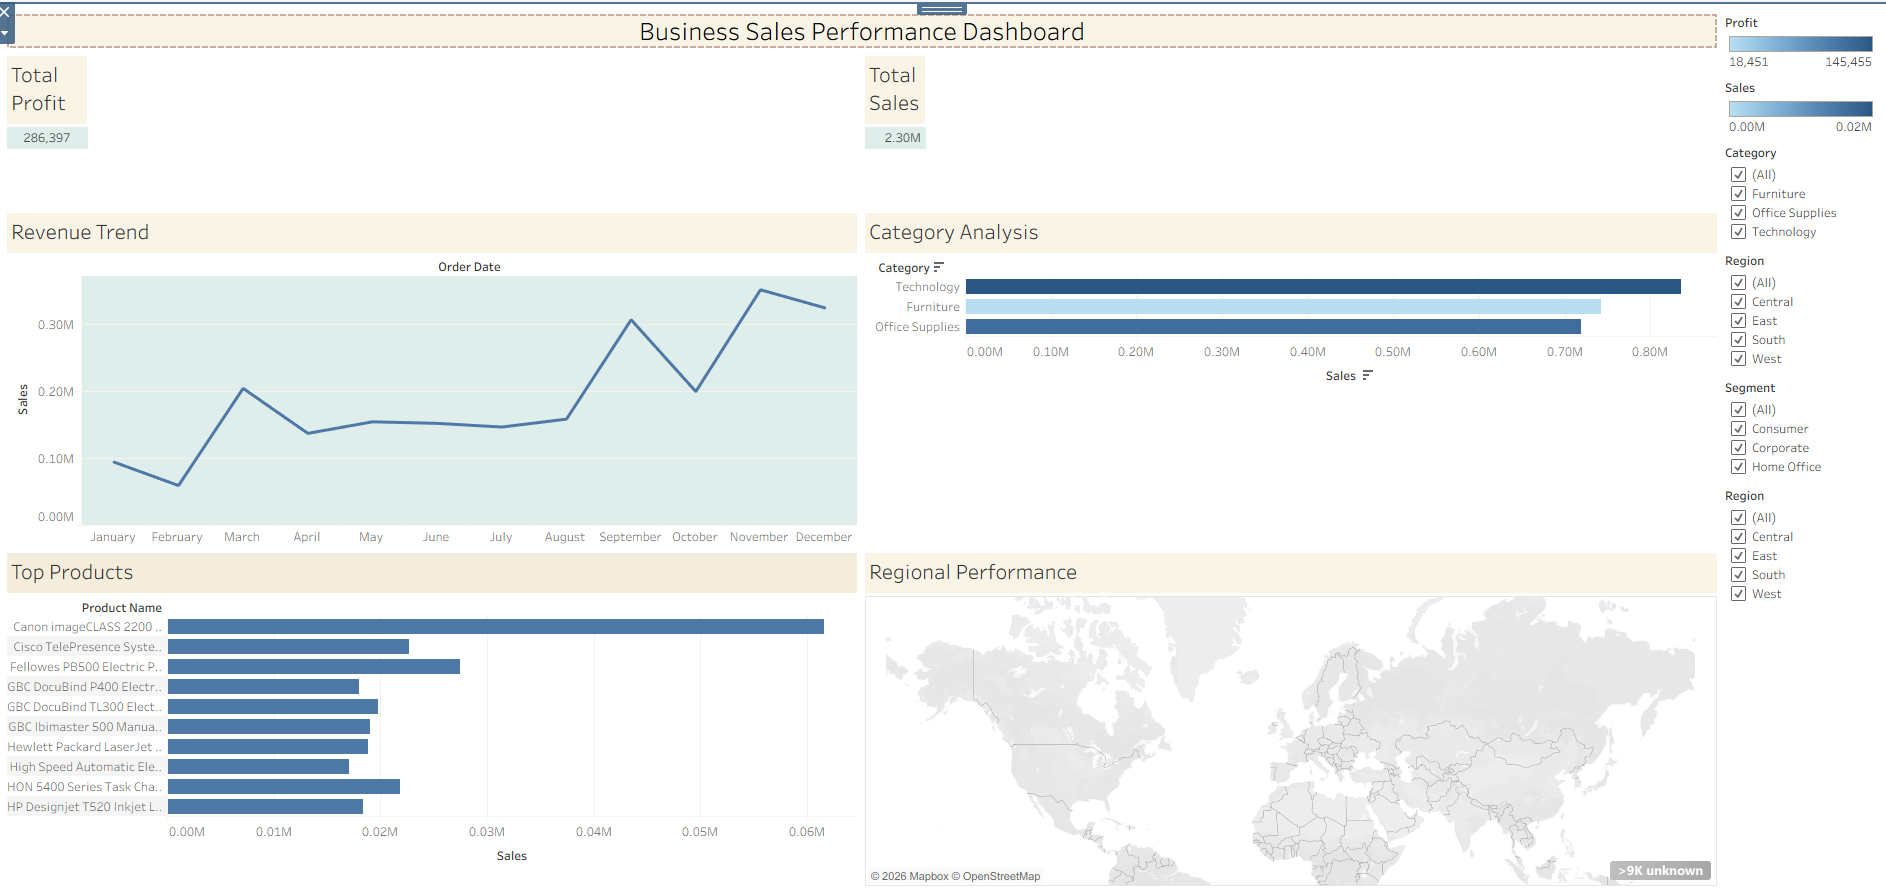

The dashboard page shown, as its layout file describes it:
{"tool":"tableau","page":{"name":"Business Sales Performance Dashboard","canvas":[1000,1000],"units":"permille","ordinal":0},"visuals":[{"type":"title","box":[4.2,8.9,907.1,46.9]},{"type":"legend","title":"Category Analysis","param":"[federated.0oephsb0z7pvvm1f0urw01b0hd0s].[sum:Profit:qk]","box":[911.3,8.9,84.5,72.5]},{"type":"worksheet","title":"Total Profit","mark":"Automatic","box":[4.2,55.8,453.2,175.2]},{"type":"worksheet","title":"Total Sales","mark":"Automatic","box":[457.4,55.8,453.9,175.2]},{"type":"legend","title":"Regional Performance","param":"[federated.0oephsb0z7pvvm1f0urw01b0hd0s].[none:Sales:qk]","box":[911.3,81.5,84.5,72.5]},{"type":"filter","title":"Category Analysis","param":"[federated.0oephsb0z7pvvm1f0urw01b0hd0s].[none:Category:nk]","box":[911.3,154,84.5,120.5]},{"type":"worksheet","title":"Revenue Trend","mark":"Automatic","rows":["Sales"],"cols":["Order Date"],"box":[4.2,231,453.2,380]},{"type":"worksheet","title":"Category Analysis","mark":"Automatic","rows":["Category"],"cols":["Sales"],"box":[457.4,231,453.9,380]},{"type":"filter","title":"Category Analysis","param":"[federated.0oephsb0z7pvvm1f0urw01b0hd0s].[none:Region:nk]","box":[911.3,274.6,84.5,141.7]},{"type":"filter","title":"Category Analysis","param":"[federated.0oephsb0z7pvvm1f0urw01b0hd0s].[none:Segment:nk]","box":[911.3,416.3,84.5,120.5]},{"type":"filter","title":"Regional Performance","param":"[federated.0oephsb0z7pvvm1f0urw01b0hd0s].[none:Region:nk]","box":[911.3,536.9,84.5,141.7]},{"type":"worksheet","title":"Top Products","mark":"Automatic","rows":["Product Name"],"cols":["Sales"],"box":[4.2,611,453.2,380]},{"type":"worksheet","title":"Regional Performance","mark":"Automatic","box":[457.4,611,453.9,380]}]}

Visuals, with their boxes on the dashboard's canvas, which has no fixed pixel size, in thousandths of its width and height (x1, y1, x2, y2). These are canvas units, not pixel positions in the 1886x896 screenshot, which may show the page scaled, cropped or inside an application window:
title: {"left": 4, "top": 9, "right": 911, "bottom": 56}
"Category Analysis" legend: {"left": 911, "top": 9, "right": 996, "bottom": 81}
"Total Profit" worksheet: {"left": 4, "top": 56, "right": 457, "bottom": 231}
"Total Sales" worksheet: {"left": 457, "top": 56, "right": 911, "bottom": 231}
"Regional Performance" legend: {"left": 911, "top": 82, "right": 996, "bottom": 154}
"Category Analysis" filter: {"left": 911, "top": 154, "right": 996, "bottom": 274}
"Revenue Trend" worksheet: {"left": 4, "top": 231, "right": 457, "bottom": 611}
"Category Analysis" worksheet: {"left": 457, "top": 231, "right": 911, "bottom": 611}
"Category Analysis" filter: {"left": 911, "top": 275, "right": 996, "bottom": 416}
"Category Analysis" filter: {"left": 911, "top": 416, "right": 996, "bottom": 537}
"Regional Performance" filter: {"left": 911, "top": 537, "right": 996, "bottom": 679}
"Top Products" worksheet: {"left": 4, "top": 611, "right": 457, "bottom": 991}
"Regional Performance" worksheet: {"left": 457, "top": 611, "right": 911, "bottom": 991}
